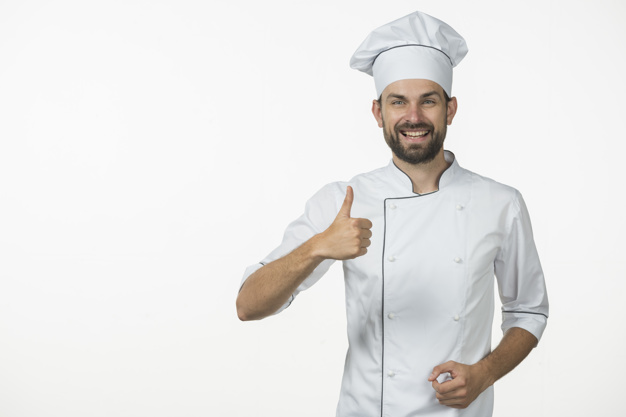thumbsup: (337, 185, 373, 257)
